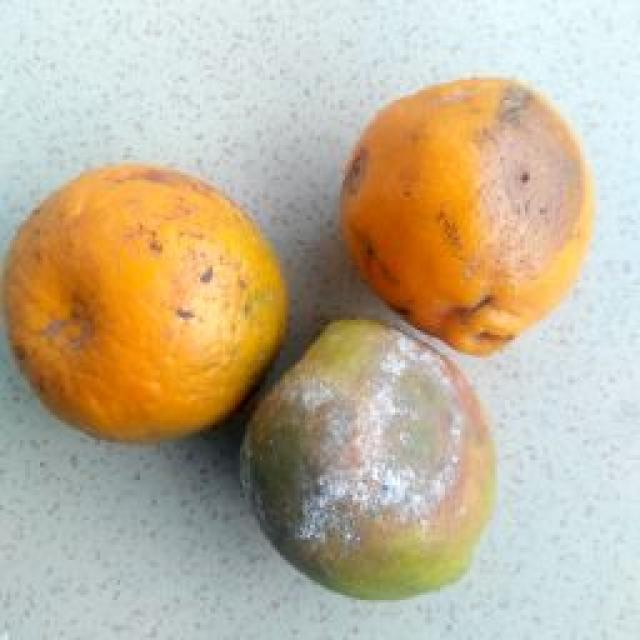Bad_Orange: (241, 320, 494, 598), (341, 79, 594, 354)
